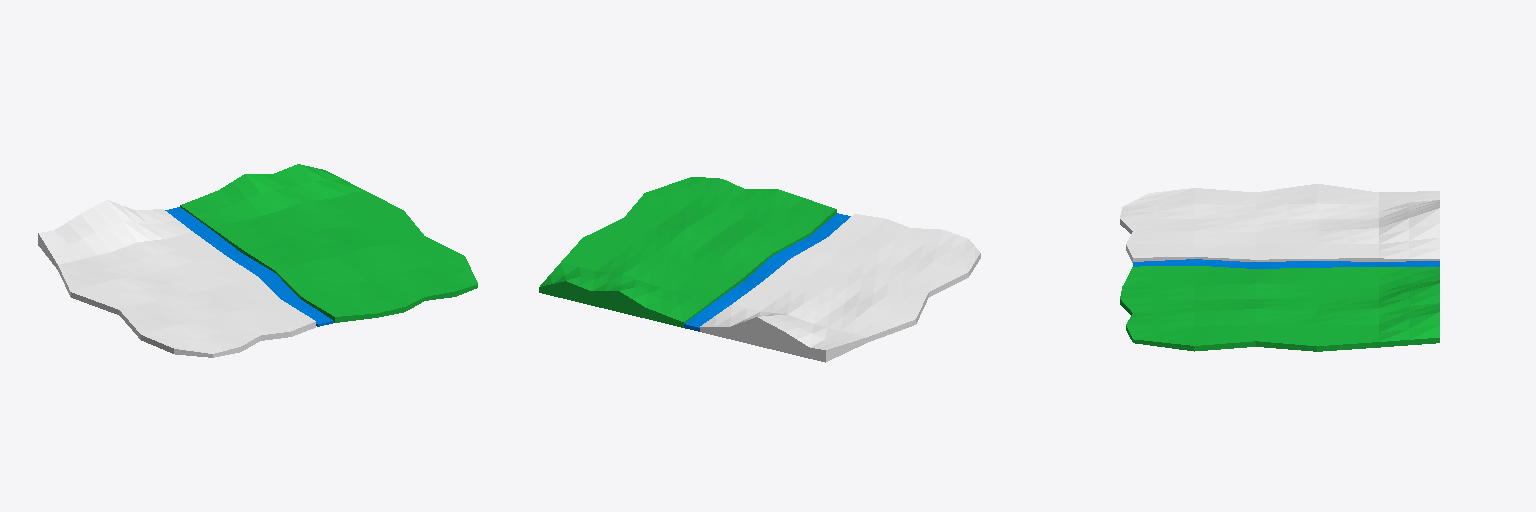
File: landscape.obj
The picture shows the model from 3 angles: view 1: azimuth 30°, elevation 25°; view 2: azimuth 150°, elevation 25°; view 3: azimuth 270°, elevation 25°; orthographic projection.
Bounding box in the file's own units: 3135 × 260 × 2607.